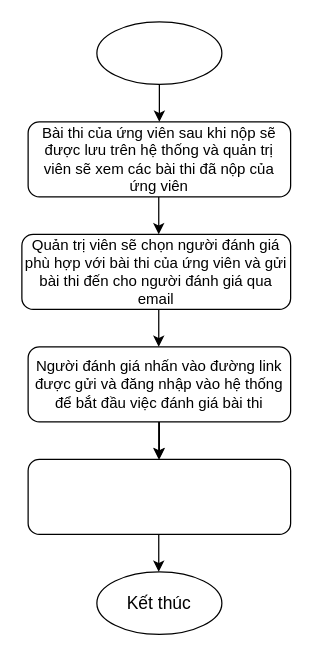
This 313x656 diagram has some shape labels left out. The box of each missing label's shape, as (x1, y1, x2, y2) in pixels:
Bắt đầu: (96, 21, 222, 84)
Kết quả của ứng viên sẽ được phòng tổ chức hành chính liên hệ để thông báo: (27, 458, 291, 534)
